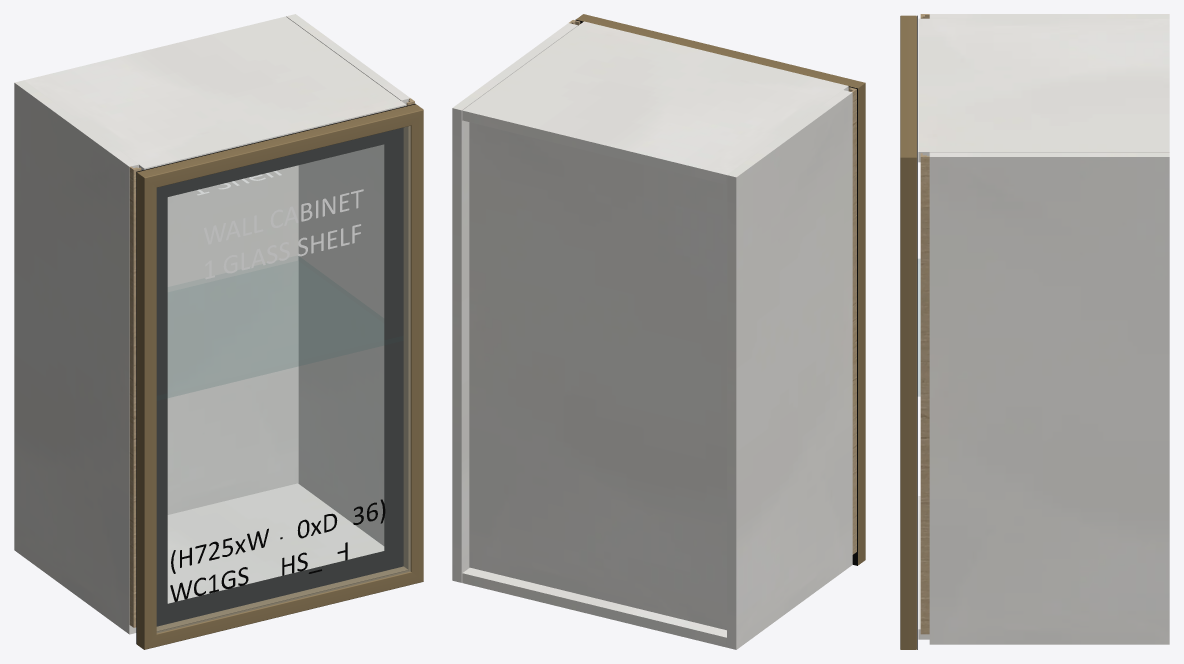
File: WC-SH-NHX-GL-1SG-LHS-XXX-450-725-336-15.glb
3 views of the same model, side by side, from view 1: azimuth 30°, elevation 25°; view 2: azimuth 150°, elevation 25°; view 3: azimuth 270°, elevation 25° (orthographic). The views are drawn at different scales.
Visible parts, largest first — view 1: Object_node_4, TP_node_0, TP_node_2, TP_node_1, TP, Neon 22 Profile ALU PROF NEON 20 L21XH22.5MM 3MTR S2/405 SEC (×4), Object_node_6, TP_node, Object_node_8, 2D text_node, 2D text_node_0, 2D text; view 2: TP_node_2, TP_node_0, TP, TP_node_1, Neon 22 Profile ALU PROF NEON 20 L21XH22.5MM 3MTR S2/405 SEC (×2), TP_node, Object_node_8; view 3: TP_node_1, TP, Neon 22 Profile ALU PROF NEON 20 L21XH22.5MM 3MTR S2/405 SEC (×2), Object_node_16, TP_node_0, Object_node_6, TP_node.
Boxes of the visible parts, x1,y1,x2,y2 form: Object_node_4: (157, 126, 410, 632); TP_node_0: (14, 80, 138, 634); TP_node_2: (167, 165, 298, 514); TP_node_1: (286, 14, 410, 545); TP: (24, 16, 406, 170); Neon 22 Profile ALU PROF NEON 20 L21XH22.5MM 3MTR S2/405 SEC (×4): (137, 104, 423, 649); Object_node_6: (136, 103, 415, 644); TP_node: (167, 483, 384, 603); Object_node_8: (129, 166, 141, 627); 2D text_node: (204, 189, 363, 279); 2D text_node_0: (171, 499, 385, 573); 2D text: (170, 542, 347, 601); TP_node_2: (469, 122, 726, 630); TP_node_0: (727, 90, 852, 649); TP: (462, 21, 848, 184); TP_node_1: (452, 23, 577, 582); Neon 22 Profile ALU PROF NEON 20 L21XH22.5MM 3MTR S2/405 SEC (×2): (576, 14, 865, 565); TP_node: (462, 567, 726, 647); Object_node_8: (848, 87, 856, 554); TP_node_1: (929, 152, 1169, 644); TP: (918, 18, 1169, 162); Neon 22 Profile ALU PROF NEON 20 L21XH22.5MM 3MTR S2/405 SEC (×2): (900, 15, 916, 649); Object_node_16: (920, 153, 929, 634); TP_node_0: (929, 14, 1169, 18); Object_node_6: (917, 15, 917, 649); TP_node: (918, 496, 929, 639).
Size of what is drawn, in the model's own units: 0.45 by 0.7235 by 0.366.
8 materials, 2 textured.
